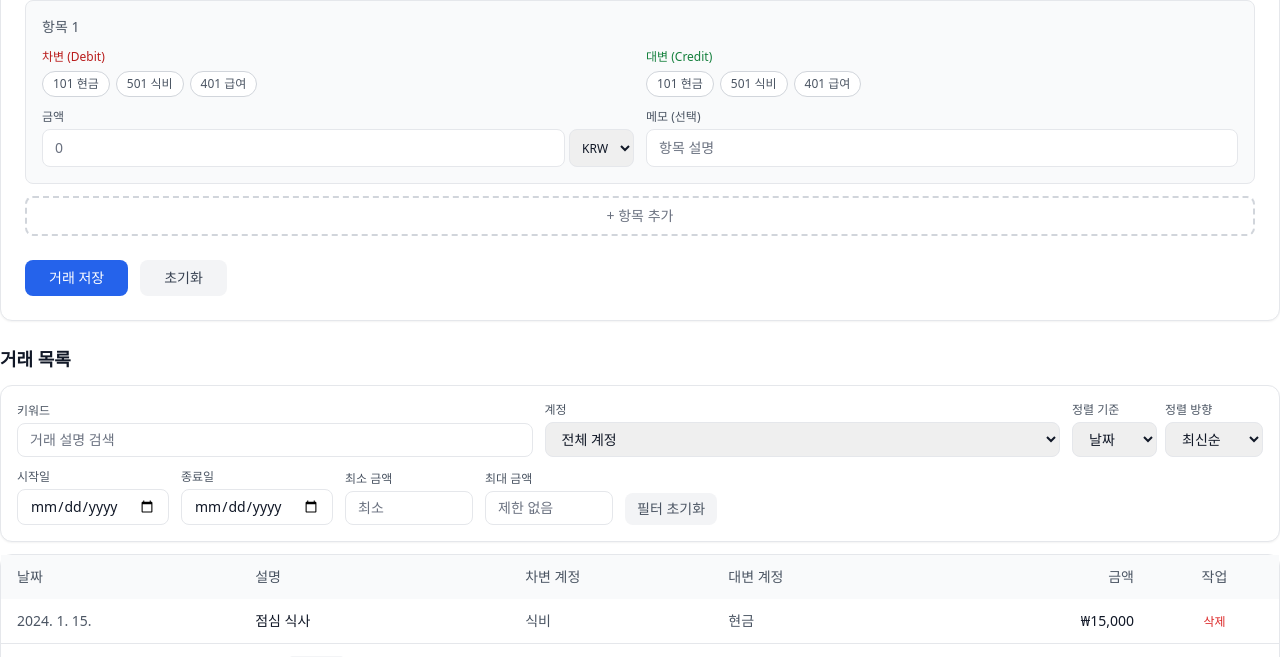
Test: TransactionsPage › 거래 수정 취소 시 상단 추가 폼으로 돌아간다
(page scrolled)
expect the text "점심 식사" is shown: met, box top-left (239, 599), bottom-right (509, 644)
Click the text "점심 식사". click: (54, 620)
box: top-left (1, 599), bottom-right (1279, 644)
(page scrolled)
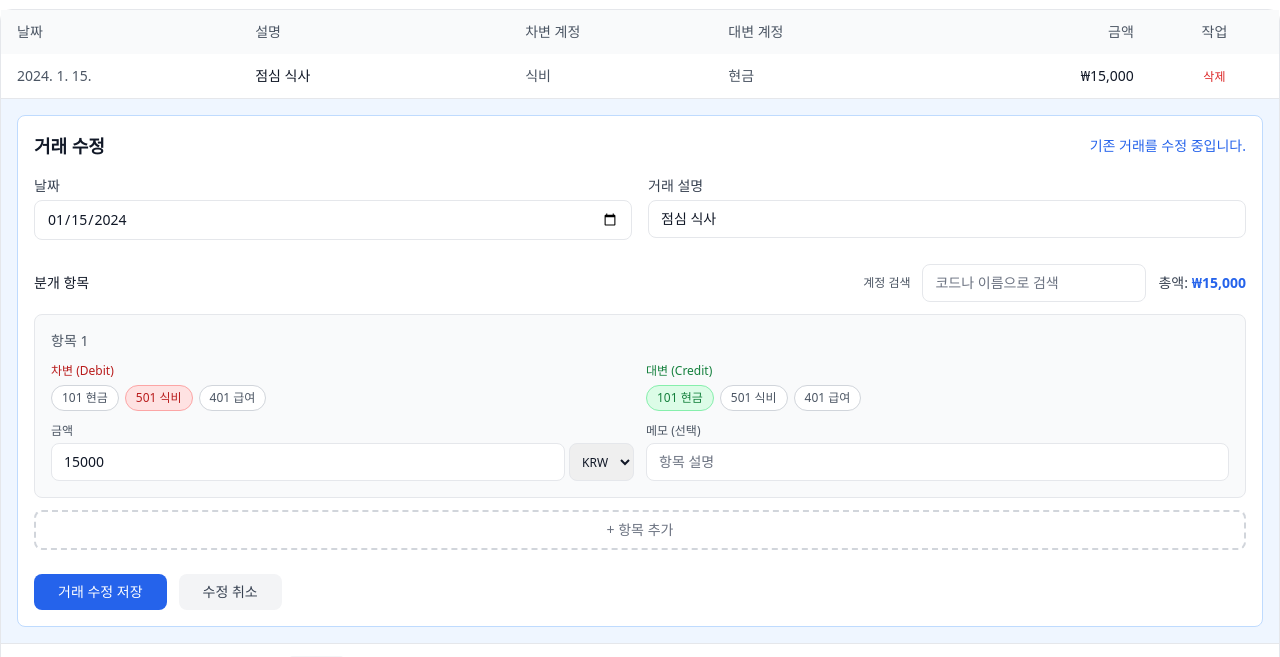
Click the button "수정 취소". click: (230, 592)
box: top-left (179, 574), bottom-right (282, 610)
(page scrolled)
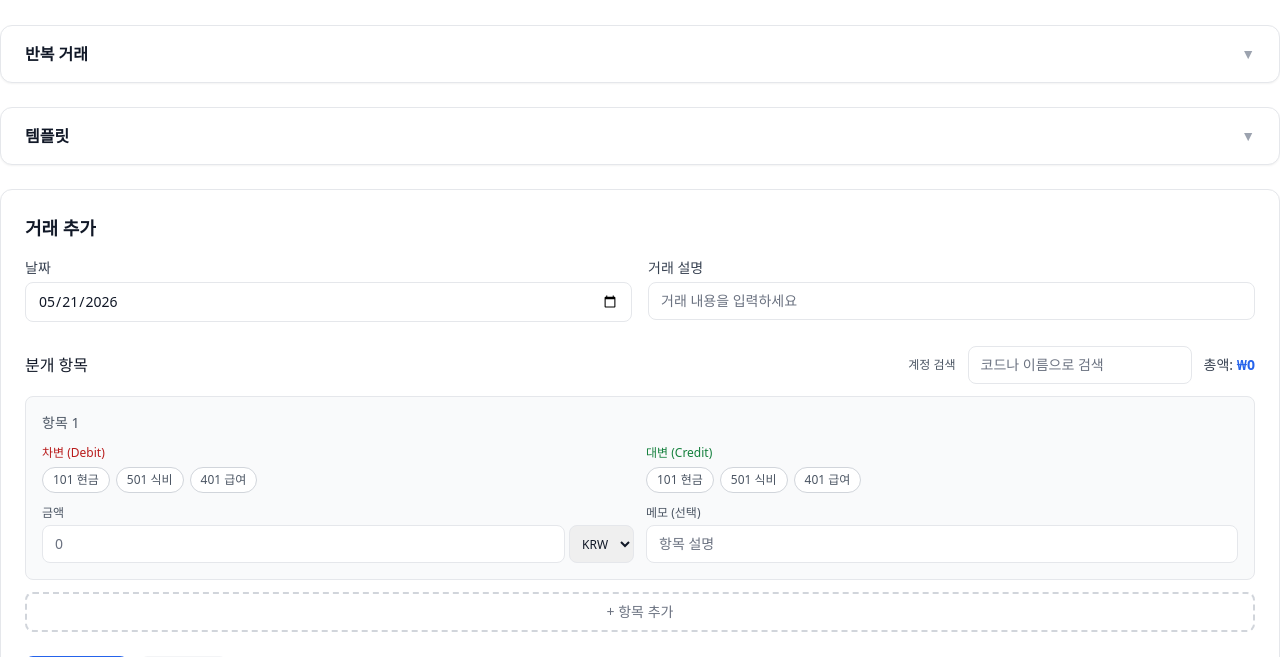
expect the heading "거래 추가" is shown: met, box top-left (25, 214), bottom-right (96, 242)
expect the field with placeholder "거래 내용을 입력하세요" is empty: met, box top-left (648, 282), bottom-right (1255, 320)
